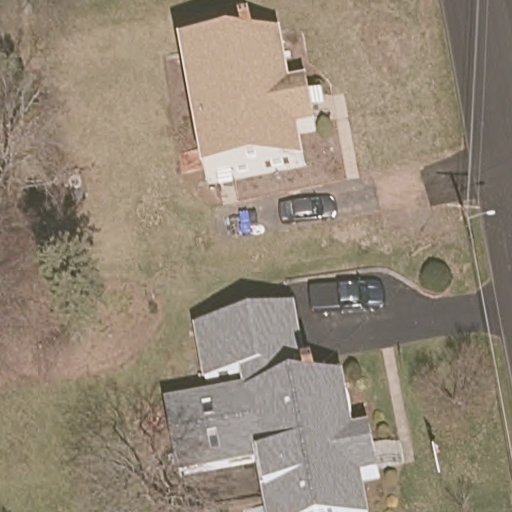DT: (445, 195, 480, 223)
